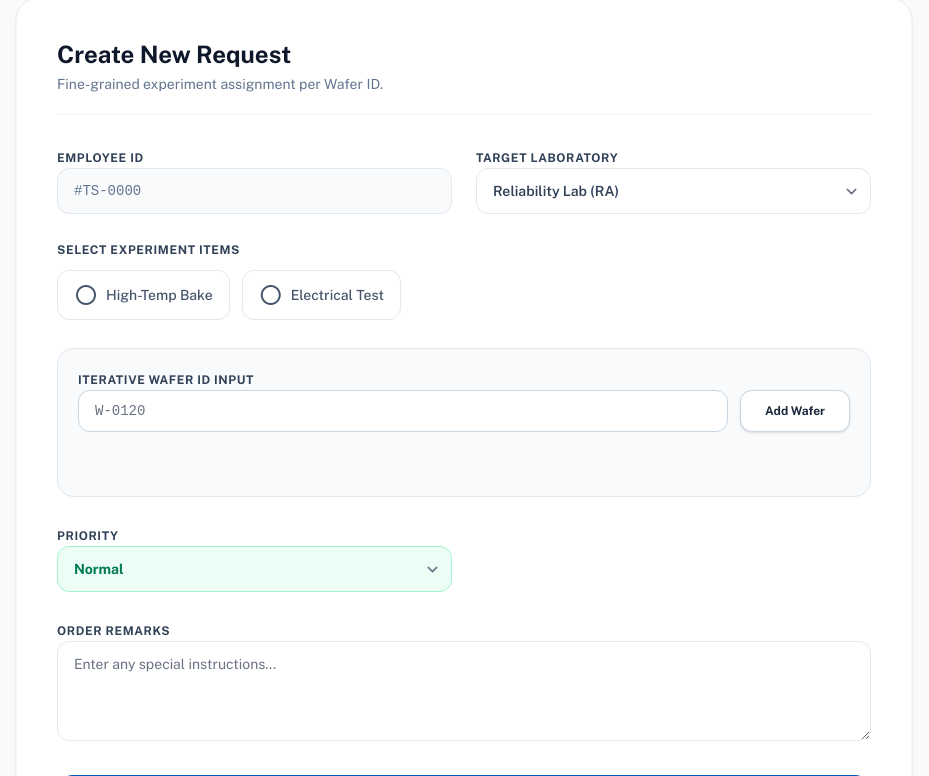
Test: FabRequestView - Enterprise Order Provisioning Testing Suite › should switch available experiments based on target laboratory
Expected: the text "High-Temp Bake" is shown, [106,285,213,305]
Step 1. Select "Material Analysis Lab (MA)" in the dropdown labelled "Target Laboratory" → (674,191), box [476,168,871,214]
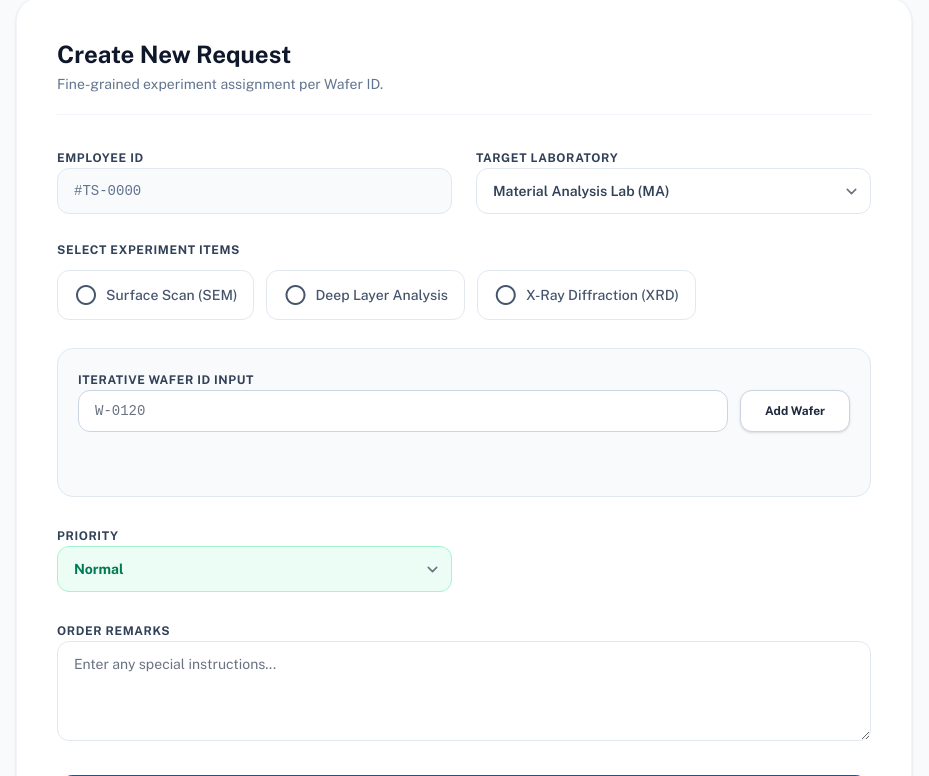
Now the text "Surface Scan (SEM)" is shown, box [106,285,238,305]
Now the button "High-Temp Bake" is gone
